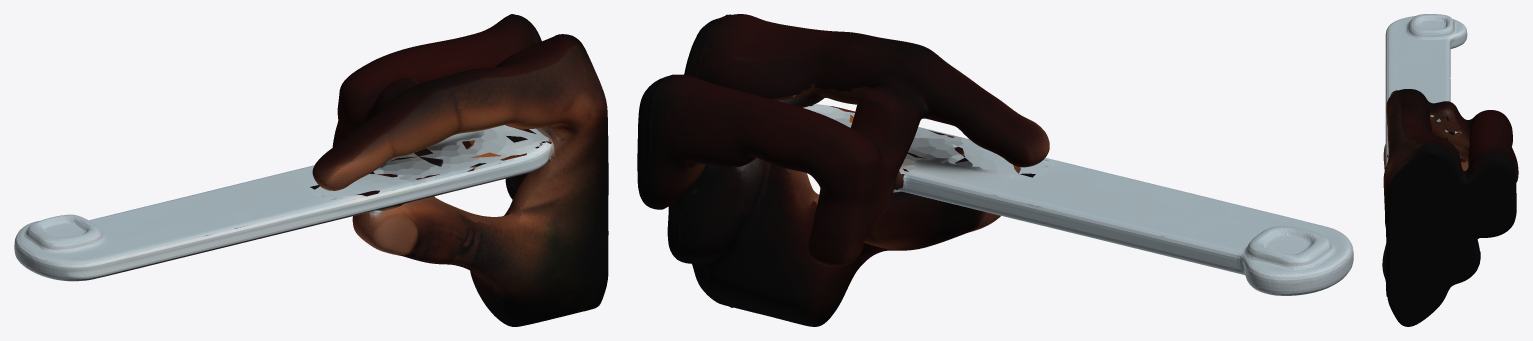
File: smartphone_01.glb
3 renders of one model, left to right at view 1: azimuth 30°, elevation 25°; view 2: azimuth 150°, elevation 25°; view 3: azimuth 270°, elevation 25°, orthographic. The views are drawn at different scales.
Visible parts, largest first — view 1: tmpi7cx8p9p.ply; view 2: tmpi7cx8p9p.ply; view 3: tmpi7cx8p9p.ply.
Boxes of the visible parts, x1,y1,x2,y2 form: tmpi7cx8p9p.ply: [14, 14, 608, 326]; tmpi7cx8p9p.ply: [637, 14, 1353, 326]; tmpi7cx8p9p.ply: [1382, 14, 1518, 326].
Bounding box in the file's own units: 1.97 × 0.8888 × 0.5994.
1 material, 1 textured.
